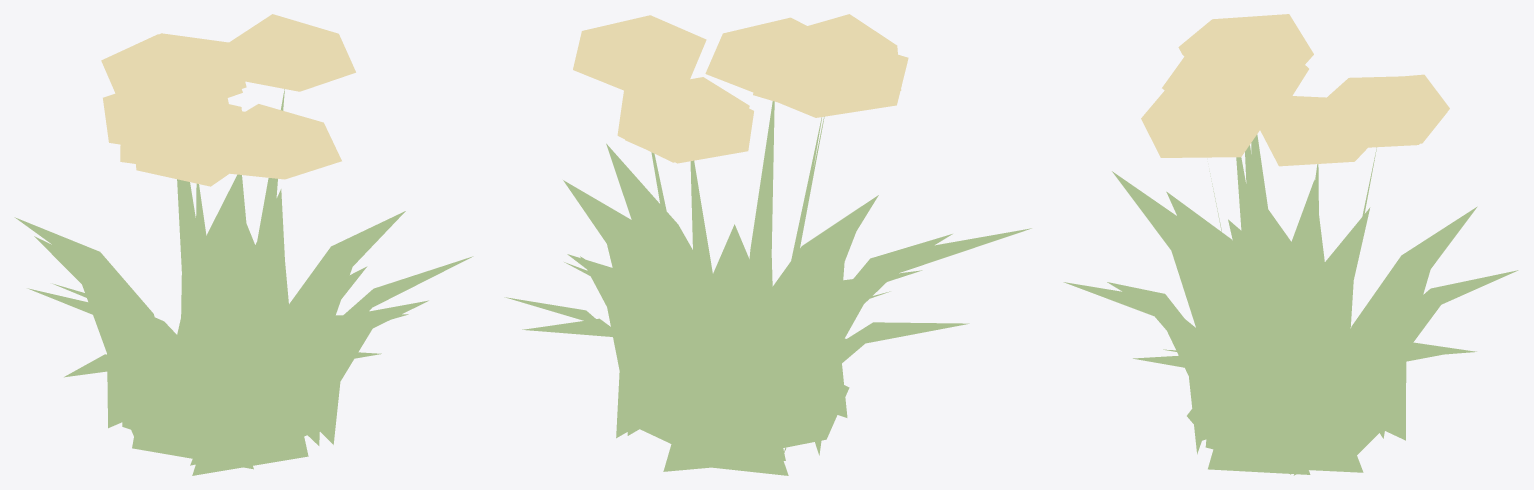
File: Blender_Alpine_2.glb
3 views of the same model, side by side, from view 1: azimuth 30°, elevation 25°; view 2: azimuth 150°, elevation 25°; view 3: azimuth 270°, elevation 25° (orthographic). The views are drawn at different scales.
Parts seen in each view (by area): view 1: Blender_Alpine_2; view 2: Blender_Alpine_2; view 3: Blender_Alpine_2.
Part boxes in pixels (x1=…): Blender_Alpine_2: x1=14, y1=14, x2=473, y2=475; Blender_Alpine_2: x1=504, y1=14, x2=1031, y2=475; Blender_Alpine_2: x1=1063, y1=14, x2=1518, y2=475.
Bounding box in the file's own units: 0.4534 × 0.4311 × 0.4743.
